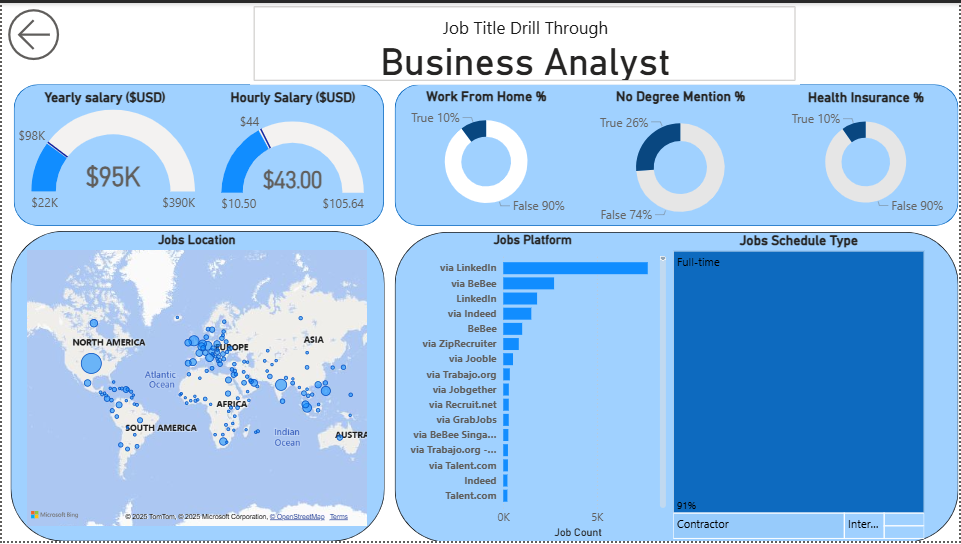

Layout of this report page (visuals, bound fields, positions):
{"tool":"powerbi","page":{"name":"Drill Through","canvas":[1280,720],"ordinal":1},"visuals":[{"type":"group","id":"g1","title":"Group 1","box":[12.2,108.7,1267.8,612],"z":0},{"type":"shape","box":[17.1,108.7,494.9,189.3],"z":0,"group":"g1"},{"type":"cardVisual","fields":{"Data":["Min(job_postings_flat.job_title_short)"]},"box":[331.7,0,734.6,109.4],"z":1000},{"type":"shape","box":[526.3,109.4,753.7,189.3],"z":1000,"group":"g1"},{"type":"actionButton","box":[0,0,135.5,85.1],"z":2000},{"type":"shape","box":[526.3,305.7,753.7,415.1],"z":2000,"group":"g1"},{"type":"gauge","title":"Hourly Salary ($USD)","fields":{"Y":["Median(job_postings_flat.salary_hour_avg)"],"MinValue":["Min(job_postings_flat.salary_hour_avg)1"],"MaxValue":["Max(job_postings_flat.salary_hour_avg)"],"TargetValue":["Avg(job_postings_flat.salary_hour_avg)2"]},"box":[264,116.4,248.3,173.7],"z":3000},{"type":"shape","box":[12.2,304.9,500.2,415.1],"z":3000,"group":"g1"},{"type":"gauge","title":"Yearly salary ($USD)","fields":{"Y":["Median(job_postings_flat.salary_year_avg)"],"MaxValue":["Max(job_postings_flat.salary_year_avg)"],"TargetValue":["Avg(job_postings_flat.salary_year_avg)1"],"MinValue":["Min(job_postings_flat.salary_year_avg)"]},"box":[12.2,116.4,251.8,173.7],"z":4000},{"type":"donutChart","title":"Work From Home %","fields":{"Y":["CountNonNull(job_postings_flat.job_work_from_home)"],"Category":["job_postings_flat.job_work_from_home"]},"box":[512.3,114.6,270.9,175.4],"z":5000},{"type":"donutChart","title":"No Degree Mention %","fields":{"Y":["CountNonNull(job_postings_flat.job_work_from_home)"],"Category":["job_postings_flat.job_no_degree_mention"]},"box":[783.2,114.6,246.6,191],"z":6000},{"type":"donutChart","title":"Health Insurance %","fields":{"Category":["job_postings_flat.job_health_insurance"],"Y":["CountNonNull(job_postings_flat.job_title_short)"]},"box":[1029.8,116.4,250.1,173.7],"z":7000},{"type":"map","title":"Jobs Location","fields":{"Category":["job_postings_flat.job_country"],"Size":["CountNonNull(job_postings_flat.job_title_short)"],"Series":["job_postings_flat.job_title_short"]},"box":[29,305.9,463.8,397.2],"z":8000},{"type":"barChart","title":"Jobs Platform","fields":{"Category":["job_postings_flat.job_via"],"Y":["CountNonNull(job_postings_flat.job_title_short)"]},"box":[526.2,305.7,366.4,415.1],"z":9000},{"type":"treemap","title":"Jobs Schedule Type","fields":{"Values":["CountNonNull(job_postings_flat.job_schedule_type)"],"Group":["job_postings_flat.job_schedule_type"]},"box":[892.6,305.7,345.6,415.1],"z":10000}]}

Visuals, with their boxes in screenshot pixels (x1, y1, x2, y2), scaled from the page's 1280x720 canvas onto the 961x544 screenshot:
"Group 1" group: left=9, top=82, right=960, bottom=543
shape: left=13, top=82, right=384, bottom=225
cardVisual - Min(job_postings_flat.job_title_short): left=249, top=0, right=801, bottom=83
shape: left=395, top=83, right=960, bottom=226
actionButton: left=0, top=0, right=102, bottom=64
shape: left=395, top=231, right=960, bottom=543
"Hourly Salary ($USD)" gauge: left=198, top=88, right=385, bottom=219
shape: left=9, top=230, right=385, bottom=543
"Yearly salary ($USD)" gauge: left=9, top=88, right=198, bottom=219
"Work From Home %" donutChart: left=385, top=87, right=588, bottom=219
"No Degree Mention %" donutChart: left=588, top=87, right=773, bottom=231
"Health Insurance %" donutChart: left=773, top=88, right=960, bottom=219
"Jobs Location" map: left=22, top=231, right=370, bottom=531
"Jobs Platform" barChart: left=395, top=231, right=670, bottom=543
"Jobs Schedule Type" treemap: left=670, top=231, right=930, bottom=543
